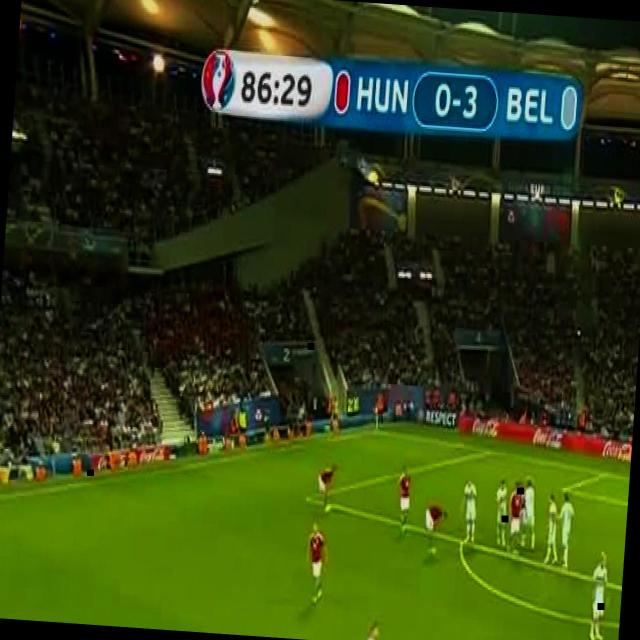player-white: (305, 519, 331, 605), (586, 551, 610, 640), (556, 492, 576, 570), (520, 478, 540, 550), (423, 505, 449, 557), (543, 494, 562, 565), (459, 478, 479, 542), (395, 464, 412, 536), (315, 462, 337, 514), (493, 479, 510, 546), (507, 482, 523, 546), (365, 617, 389, 640)
